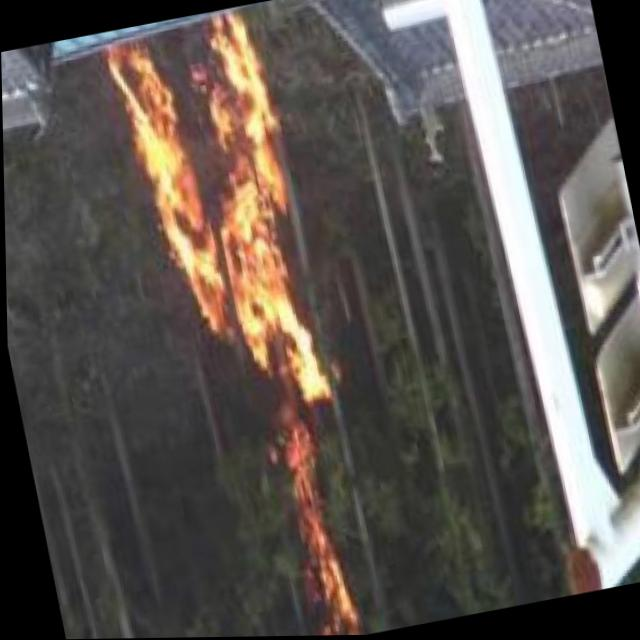Fire: (94, 2, 383, 639)
